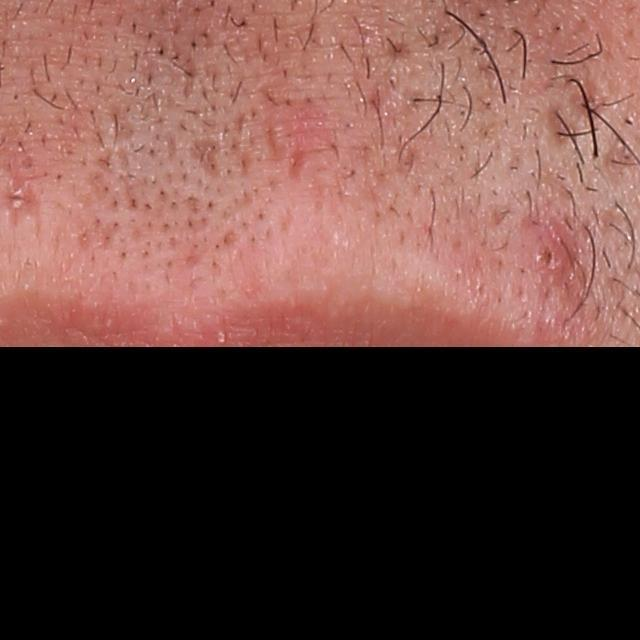atrophic_scar: (263, 98, 335, 187), (2, 153, 40, 236), (600, 132, 637, 199), (228, 107, 258, 182), (186, 133, 228, 179), (545, 106, 578, 150), (110, 109, 141, 140)
